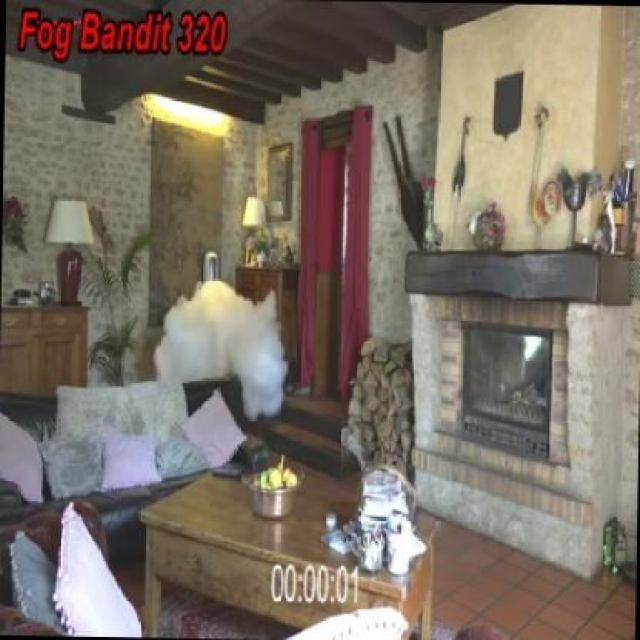fire: (150, 274, 292, 422)
